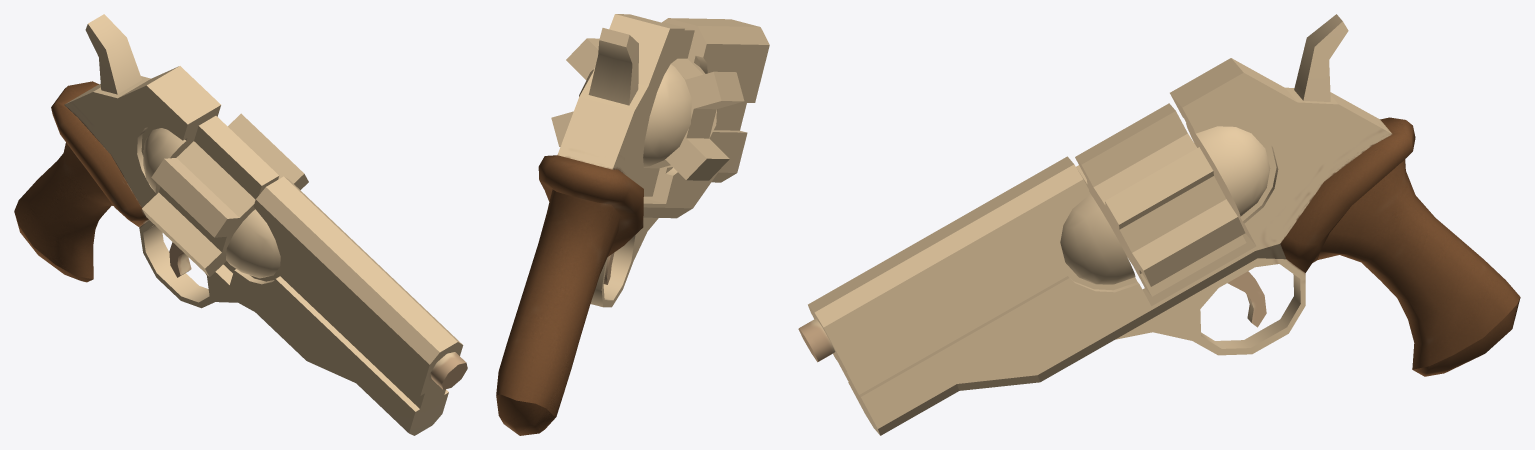
The model's file is GunStandingAttack.fbx.
3 views of the same model, side by side, from view 1: azimuth 30°, elevation 25°; view 2: azimuth 150°, elevation 25°; view 3: azimuth 270°, elevation 25° (orthographic). The views are drawn at different scales.
Parts seen in each view (by area): view 1: Revolver; view 2: Revolver; view 3: Revolver.
Boxes of the visible parts, <box> form: Revolver: <box>14,14,467,435</box>; Revolver: <box>496,14,769,435</box>; Revolver: <box>798,14,1520,435</box>.
Size of the model in its own units: 52.51 by 88.23 by 167.
